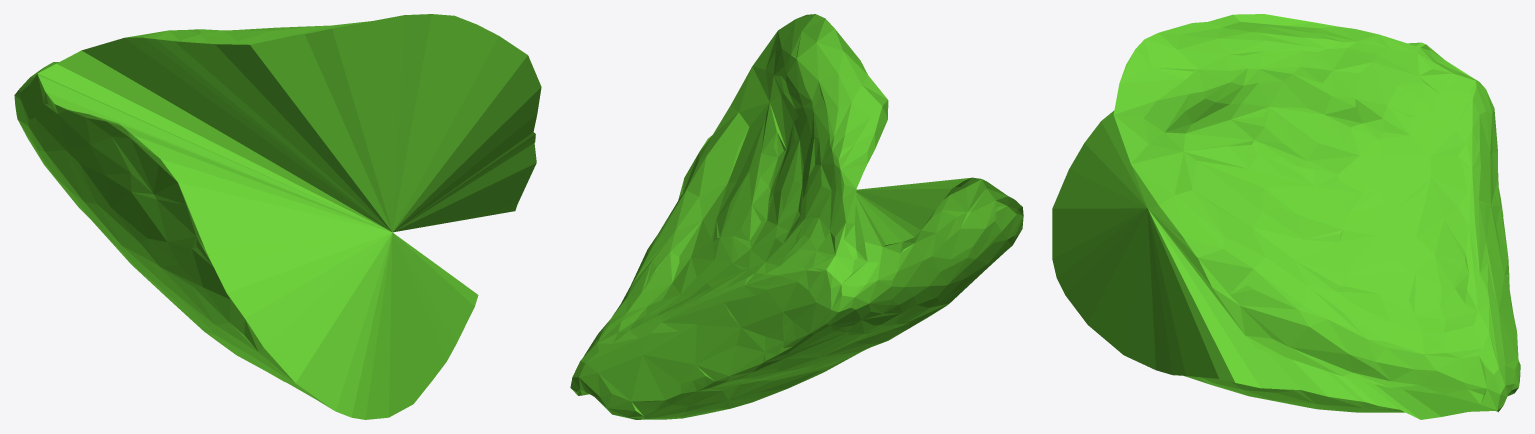
File: Crown_12__Demo_Virtual_Patient.obj
3 renders of one model, left to right at view 1: azimuth 30°, elevation 25°; view 2: azimuth 150°, elevation 25°; view 3: azimuth 270°, elevation 25°, orthographic. The views are drawn at different scales.
Size of the model in its own units: 7.14 by 7.1 by 8.38.
